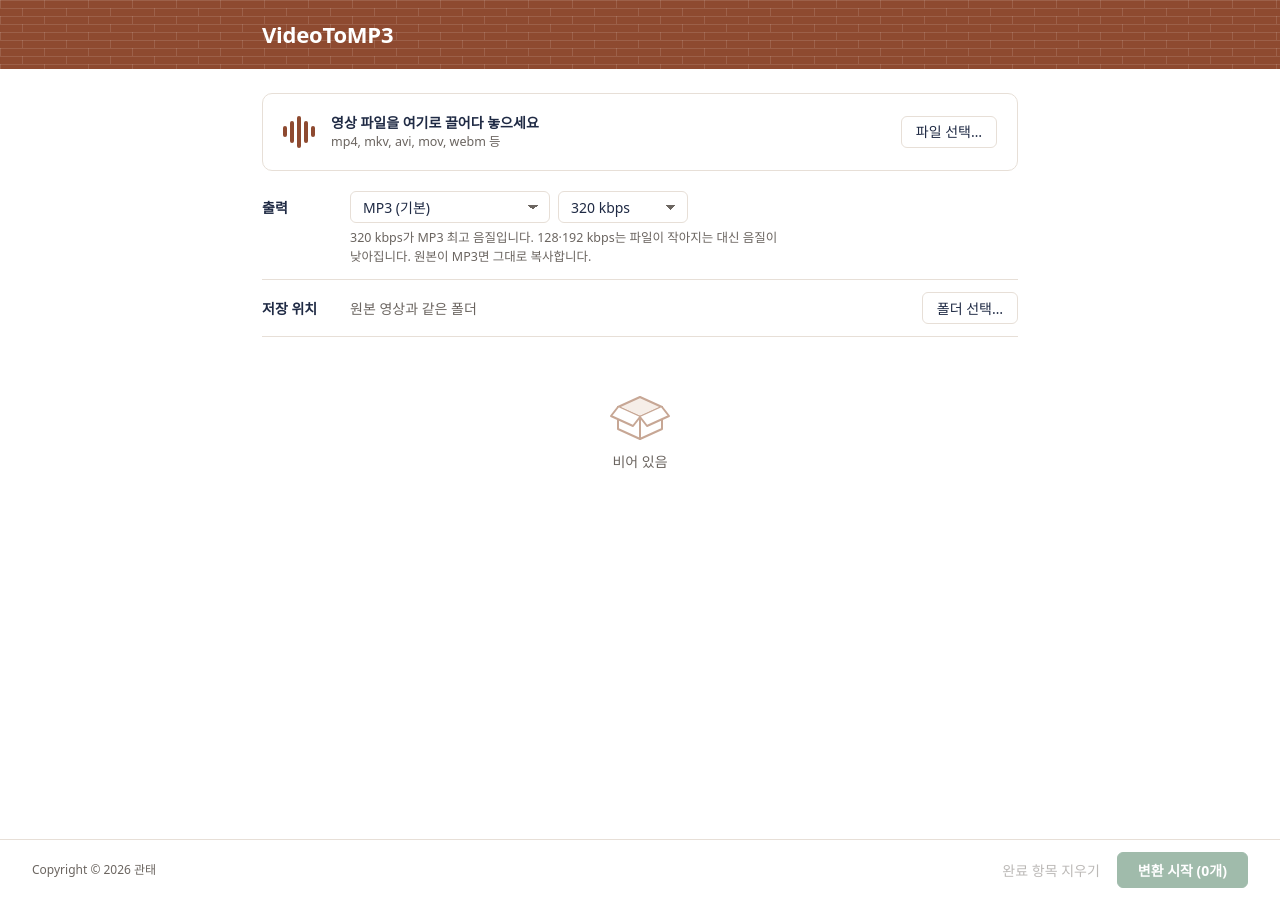
Test: 설정 › 형식 m4a: 음질 안내와 음질 선택 가능 여부
Select "M4A (AAC)" in the dropdown named "출력 형식" at (450, 207), box [350,191,550,223]
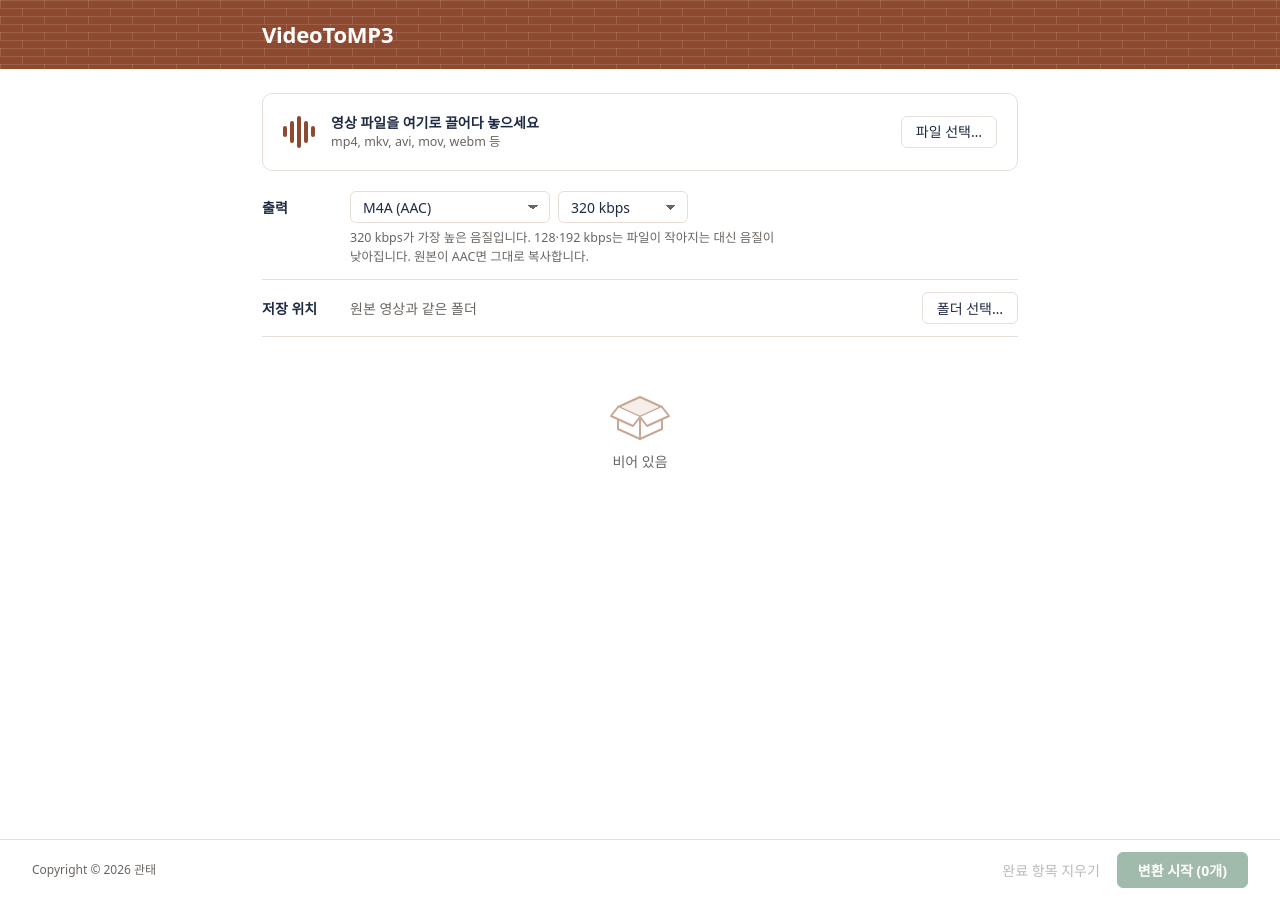
expect the dropdown named "음질" is enabled: met, box [558,191,688,223]
expect the text with id "bitrate-hint" reads "320 kbps가 가장 높은 음질입니다. 128·192 kbps는 파일이 작아지는 대신 음질이 낮아집니다. 원본이 AAC면 그대로 복사합니다.": met, box [350,229,774,265]
